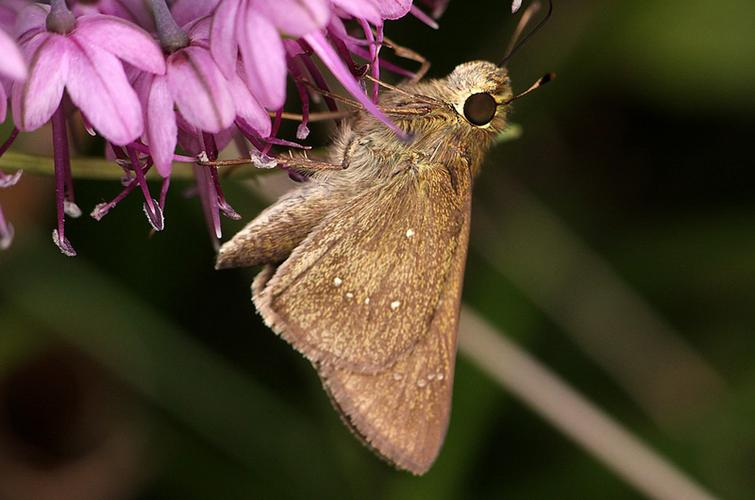Hesperiidae: (208, 13, 558, 478)
